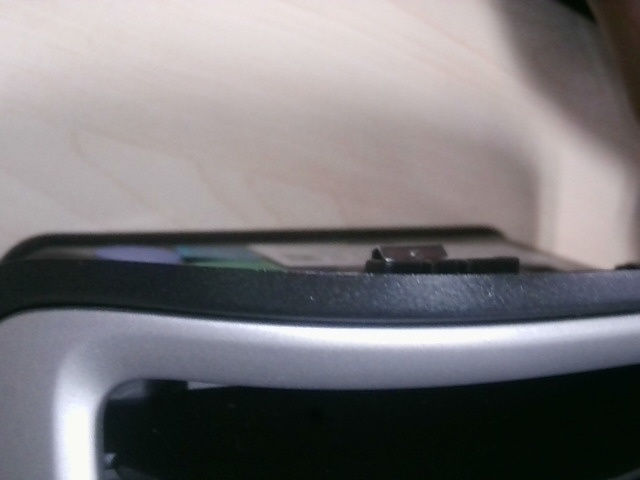NG: (452, 266, 486, 311)
